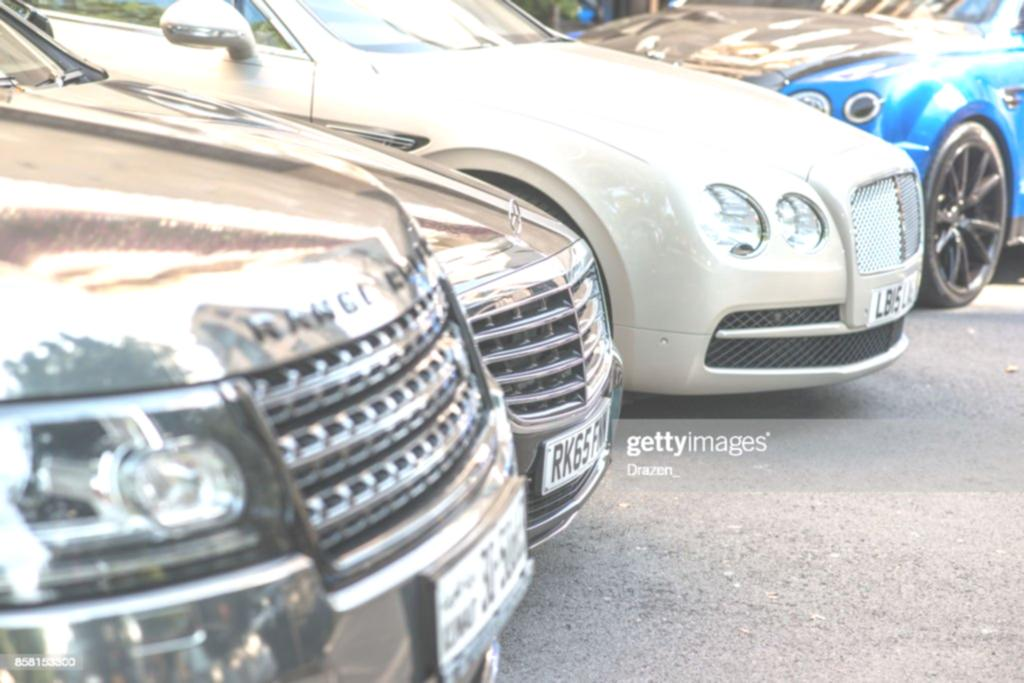Mercedes: (492, 183, 545, 254)
range rover: (230, 216, 447, 361)
